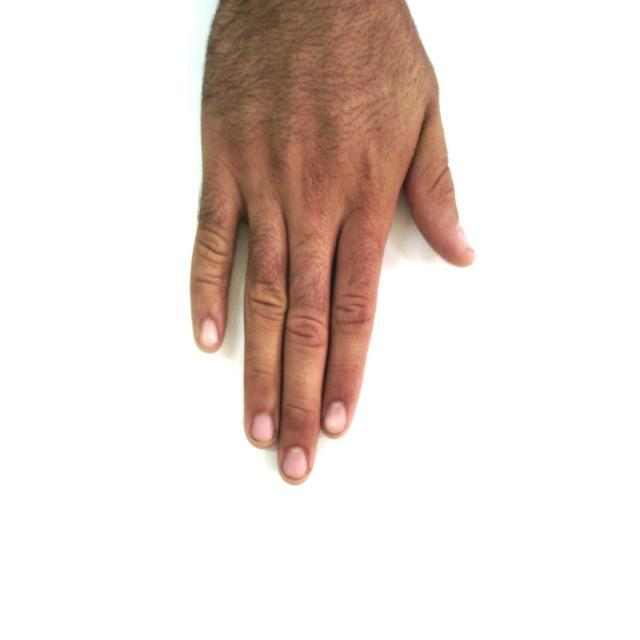Fingernail: (283, 447, 307, 478), (325, 403, 346, 434), (253, 414, 274, 443), (201, 319, 219, 348), (458, 227, 474, 250)
